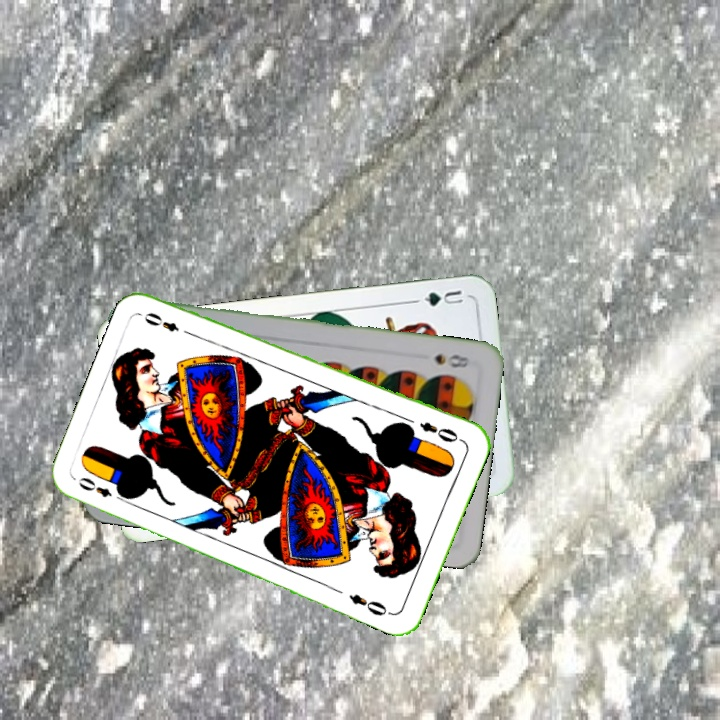EO: (74, 473, 129, 506), (415, 417, 466, 445)
GU: (410, 286, 466, 309)
S8: (430, 349, 472, 371)
